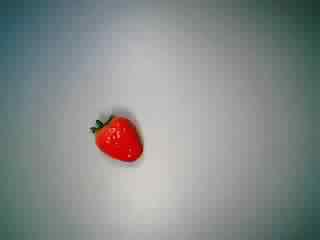strawberry: (78, 106, 146, 170)
